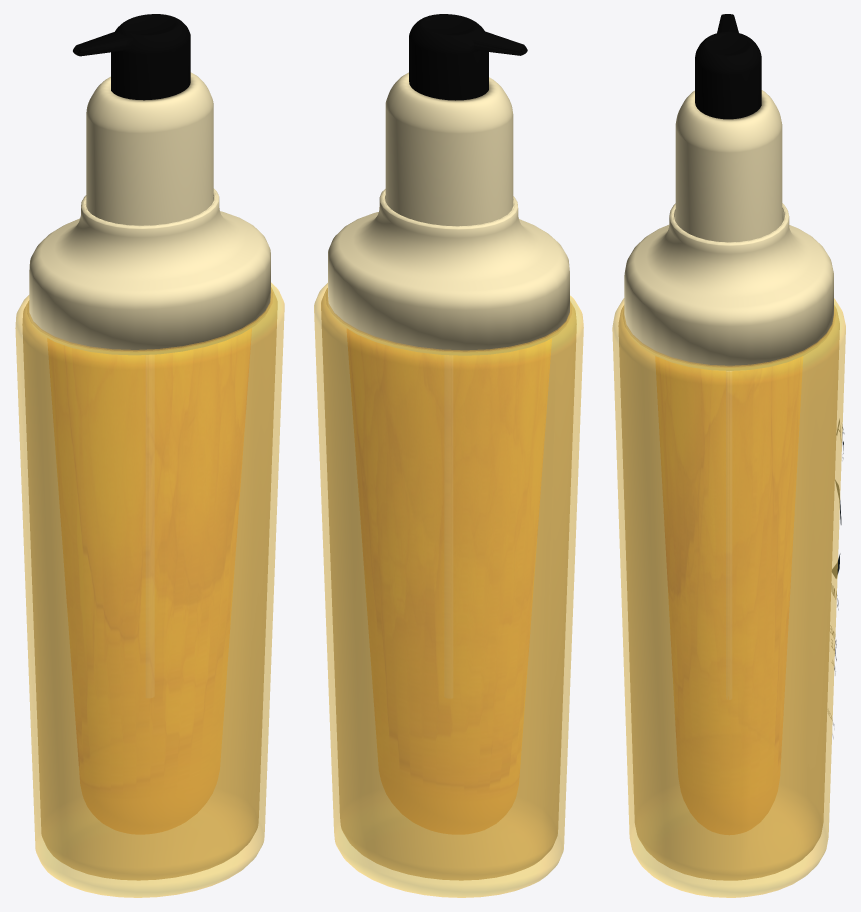
Rendered from leavein.glb.
3 views of the same model, side by side, from view 1: azimuth 30°, elevation 25°; view 2: azimuth 150°, elevation 25°; view 3: azimuth 270°, elevation 25° (orthographic). The views are drawn at different scales.
Visible parts, largest first — view 1: Circle_5, Circle.005_6, Circle.001_1, Circle.002_2, Circle.004_4; view 2: Circle_5, Circle.005_6, Circle.001_1, Circle.002_2, Circle.004_4; view 3: Circle_5, Circle.005_6, Circle.001_1, Circle.002_2, Circle.004_4.
Boxes of the visible parts, x1,y1,x2,y2 form: Circle_5: [15, 282, 284, 897]; Circle.005_6: [22, 287, 277, 880]; Circle.001_1: [47, 328, 251, 834]; Circle.002_2: [29, 72, 270, 354]; Circle.004_4: [73, 14, 190, 100]; Circle_5: [314, 283, 583, 897]; Circle.005_6: [321, 288, 576, 880]; Circle.001_1: [347, 329, 551, 834]; Circle.002_2: [328, 72, 569, 355]; Circle.004_4: [409, 14, 527, 100]; Circle_5: [612, 298, 845, 897]; Circle.005_6: [618, 305, 839, 880]; Circle.001_1: [655, 356, 802, 834]; Circle.002_2: [624, 90, 833, 370]; Circle.004_4: [695, 14, 761, 119].
Bounding box in the file's own units: 1.27 × 4.21 × 1.1.
Materials: 7 (2 with a texture image).
